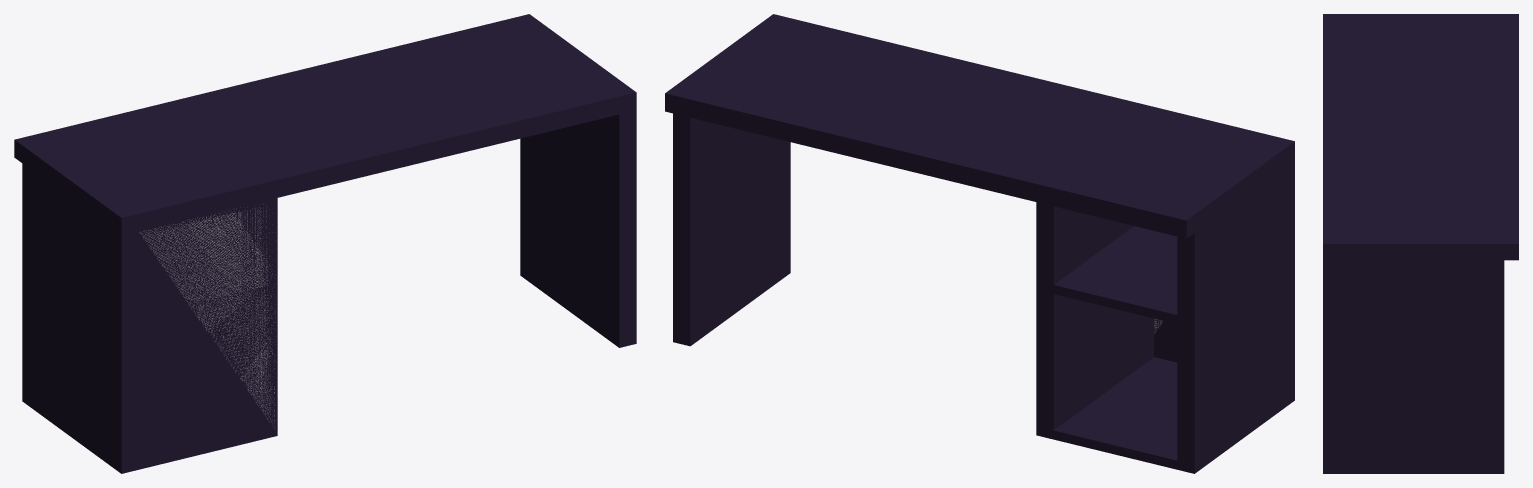
The model's file is estrutura_cor.gltf.
3 views of the same model, side by side, from view 1: azimuth 30°, elevation 25°; view 2: azimuth 150°, elevation 25°; view 3: azimuth 270°, elevation 25° (orthographic). The views are drawn at different scales.
Visible parts, largest first — view 1: superior, lateral (×3), traseira, suporte_inf, suporte_meio, suporte_sup; view 2: lateral (×3), superior, suporte_inf, suporte_meio, traseira, suporte_sup; view 3: superior, lateral (×3).
Part boxes in pixels (x1=…): superior: x1=14, y1=14, x2=636, y2=235; lateral (×3): x1=22, y1=20, x2=636, y2=469; traseira: x1=138, y1=204, x2=275, y2=464; suporte_inf: x1=22, y1=392, x2=277, y2=473; suporte_meio: x1=22, y1=249, x2=275, y2=328; suporte_sup: x1=22, y1=159, x2=276, y2=237; lateral (×3): x1=673, y1=14, x2=1294, y2=469; superior: x1=665, y1=14, x2=1294, y2=238; suporte_inf: x1=1036, y1=357, x2=1294, y2=473; suporte_meio: x1=1038, y1=226, x2=1294, y2=328; traseira: x1=1154, y1=318, x2=1177, y2=362; suporte_sup: x1=1192, y1=156, x2=1294, y2=236; superior: x1=1323, y1=14, x2=1518, y2=260; lateral (×3): x1=1323, y1=14, x2=1504, y2=473.
Size of the model in its own units: 1.88 by 0.8906 by 0.675.
4 materials, 1 textured.
